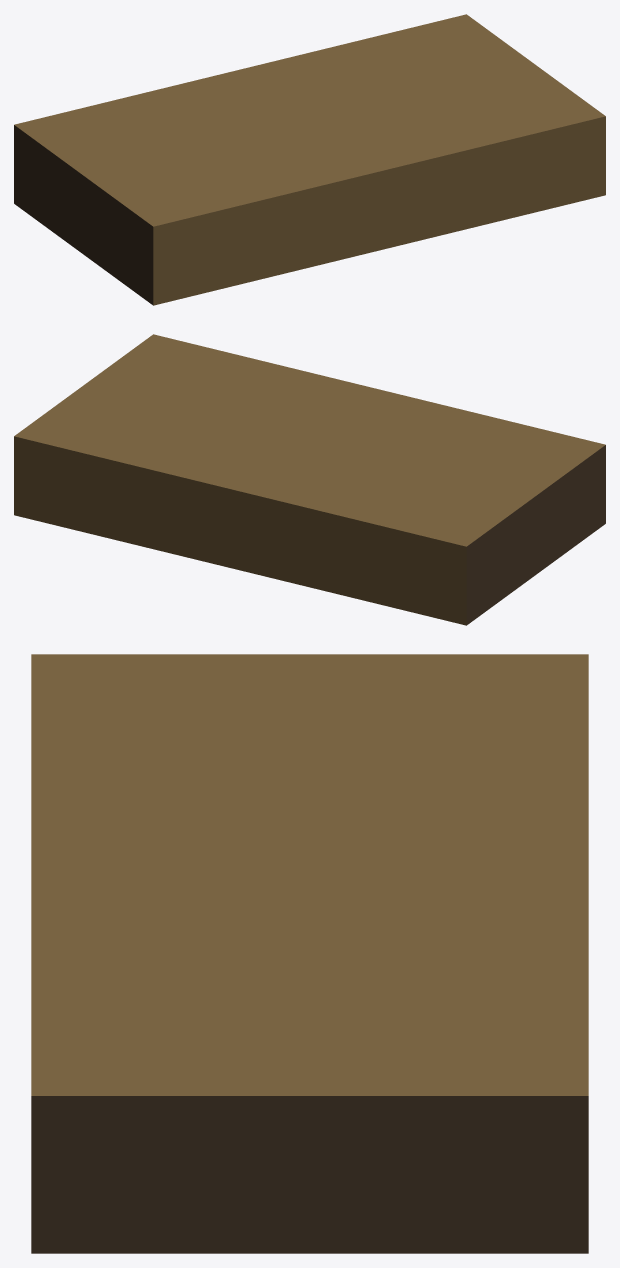
The model's file is TB_D_Bd_DoorStep_B.FBX.
3 views of the same model, one above another, from view 1: azimuth 30°, elevation 25°; view 2: azimuth 150°, elevation 25°; view 3: azimuth 270°, elevation 25° (orthographic). The views are drawn at different scales.
Parts seen in each view (by area): view 1: TB_D_Bd_DoorStep_B; view 2: TB_D_Bd_DoorStep_B; view 3: TB_D_Bd_DoorStep_B.
Boxes of the visible parts, x1,y1,x2,y2 form: TB_D_Bd_DoorStep_B: (14, 14, 605, 305); TB_D_Bd_DoorStep_B: (14, 334, 605, 625); TB_D_Bd_DoorStep_B: (31, 654, 588, 1253).
Bounding box in the file's own units: 1.5 × 0.25 × 0.8.
